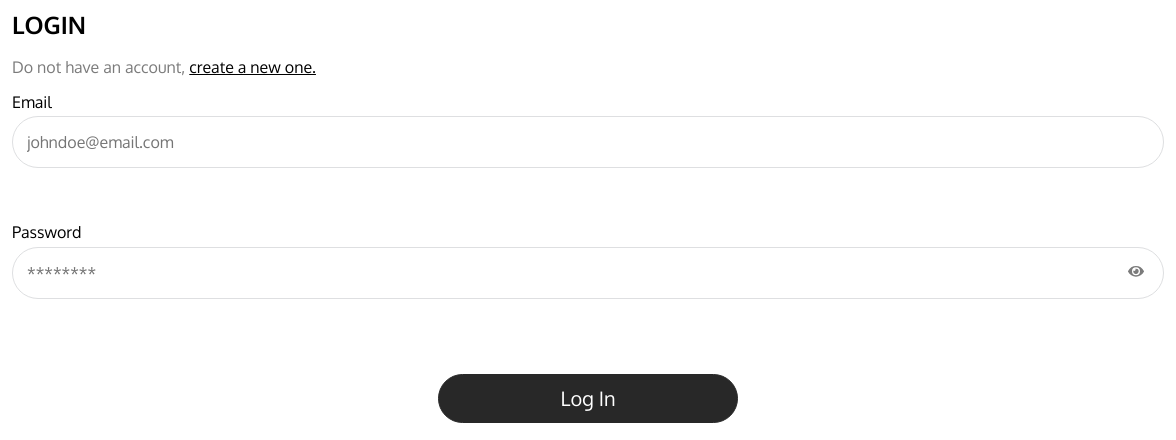
Test: LoginForm › should show an error message for invalid email
In the field labelled "Email": coordinates (588, 142) [12,116,1164,168], type "invalid-email"
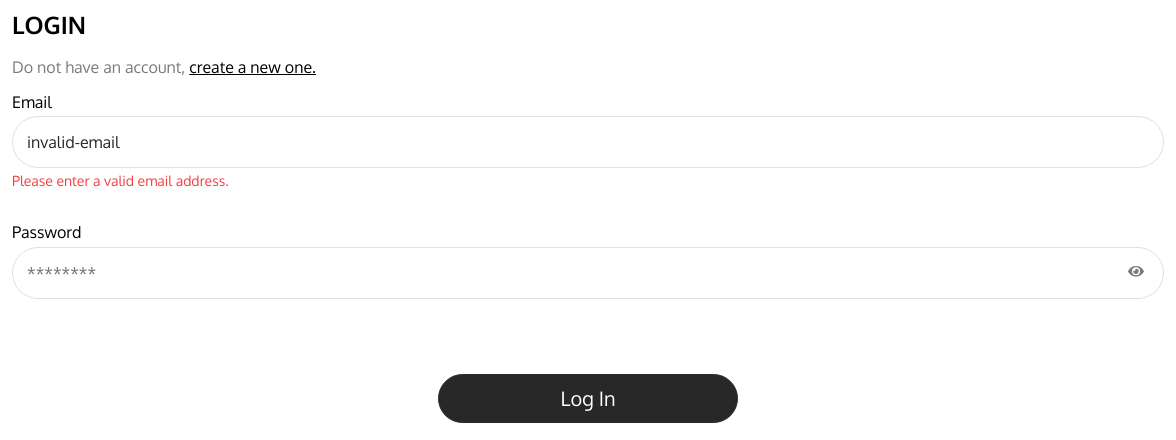
Expected: the text "Please enter a valid email address." is shown, [12,172,229,189]
